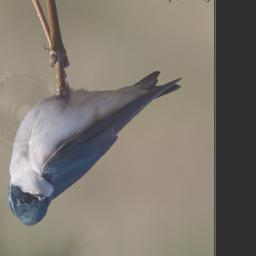Swallow: (7, 71, 184, 227)
